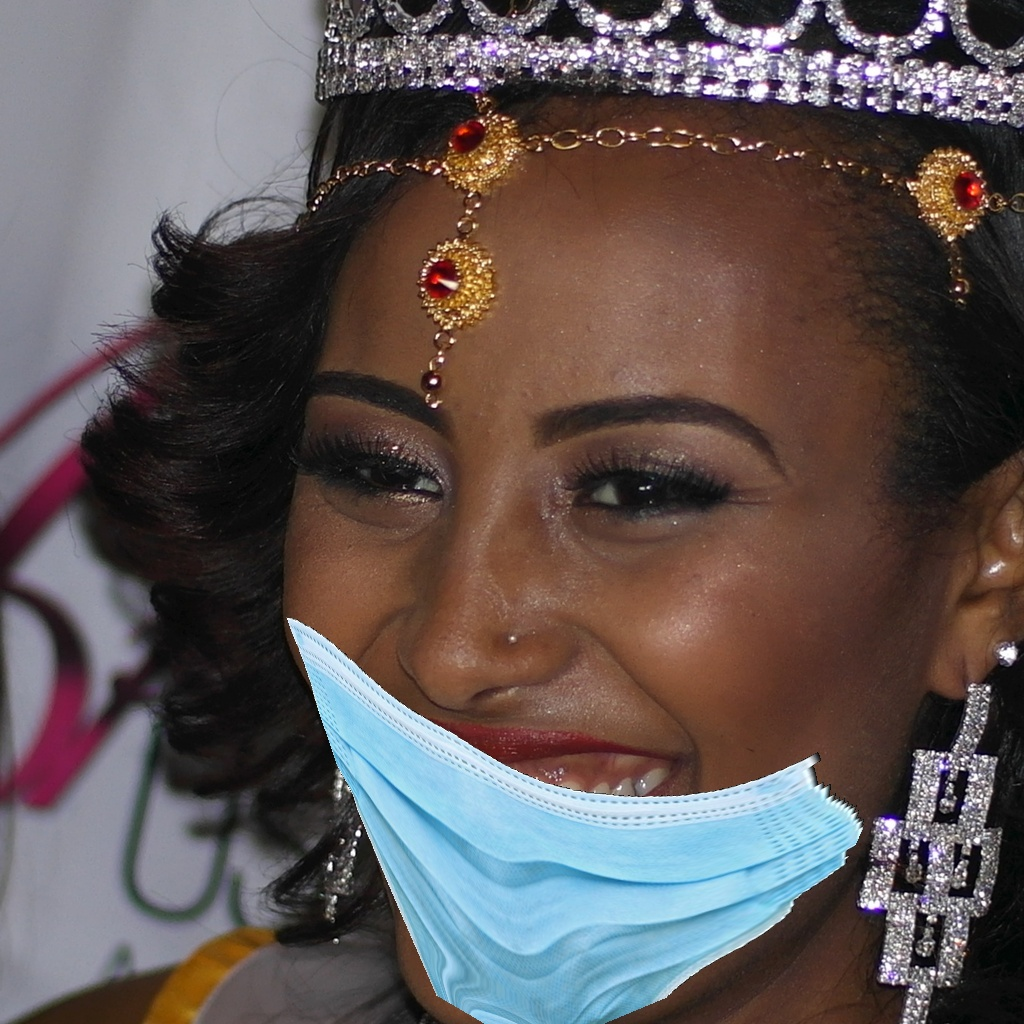mascarilla_mal_puesta: (252, 398, 922, 1024)
